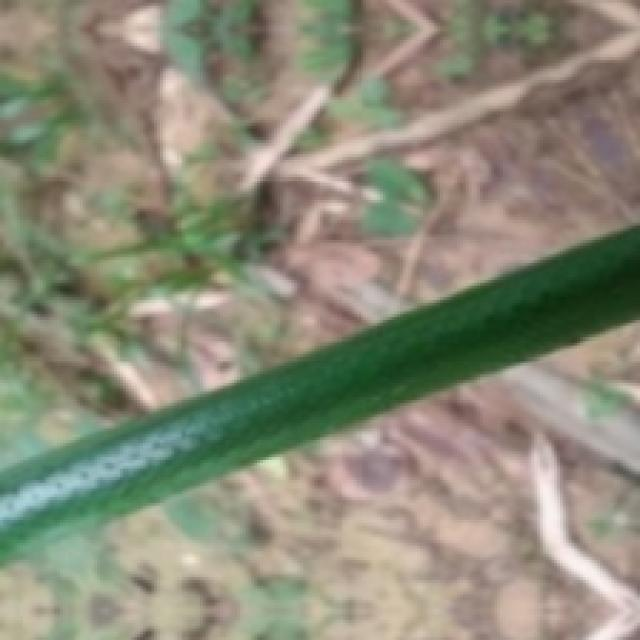red-tailed green ratsnake: (1, 226, 640, 563)
